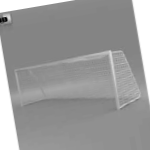goals: (14, 48, 142, 114)
